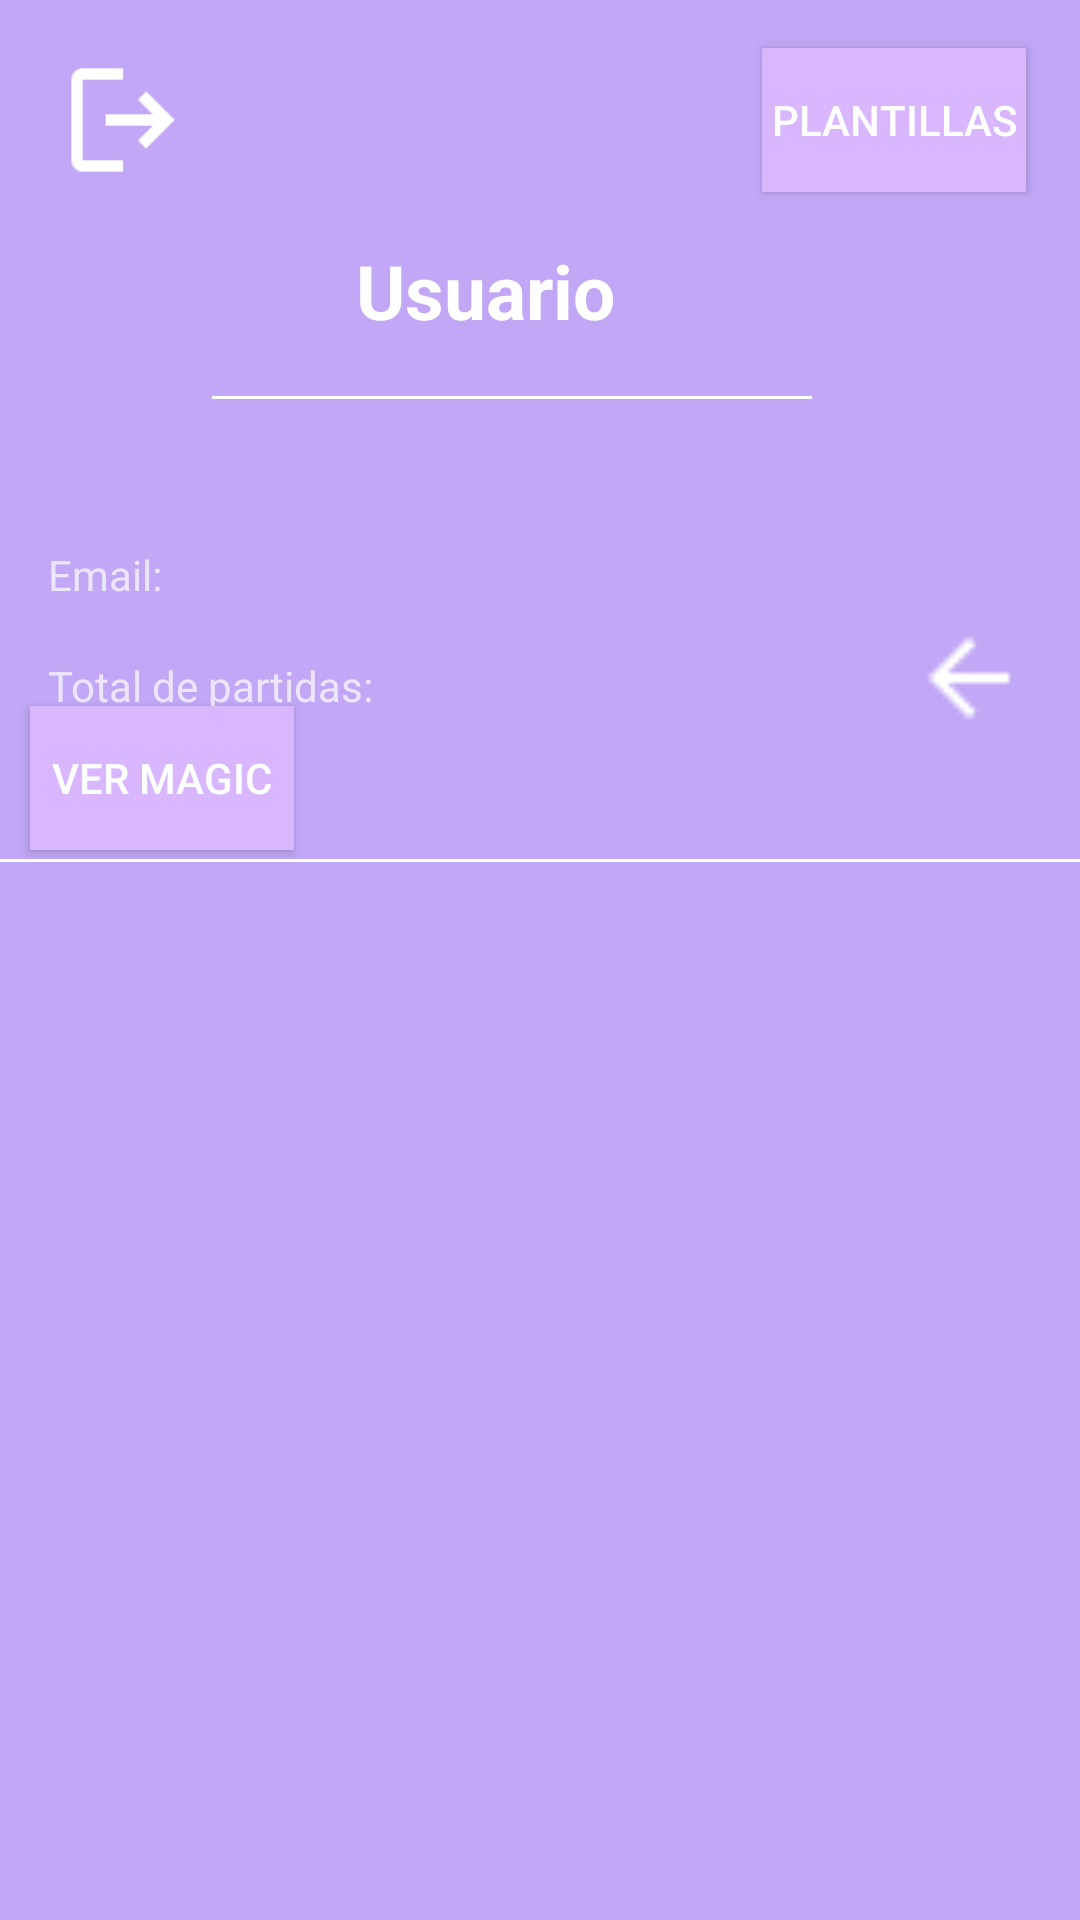

Icon click points for this 1080px×1920px phone screenshot, format (x=x, y=y):
boton para volver atras: (x=969, y=678)
